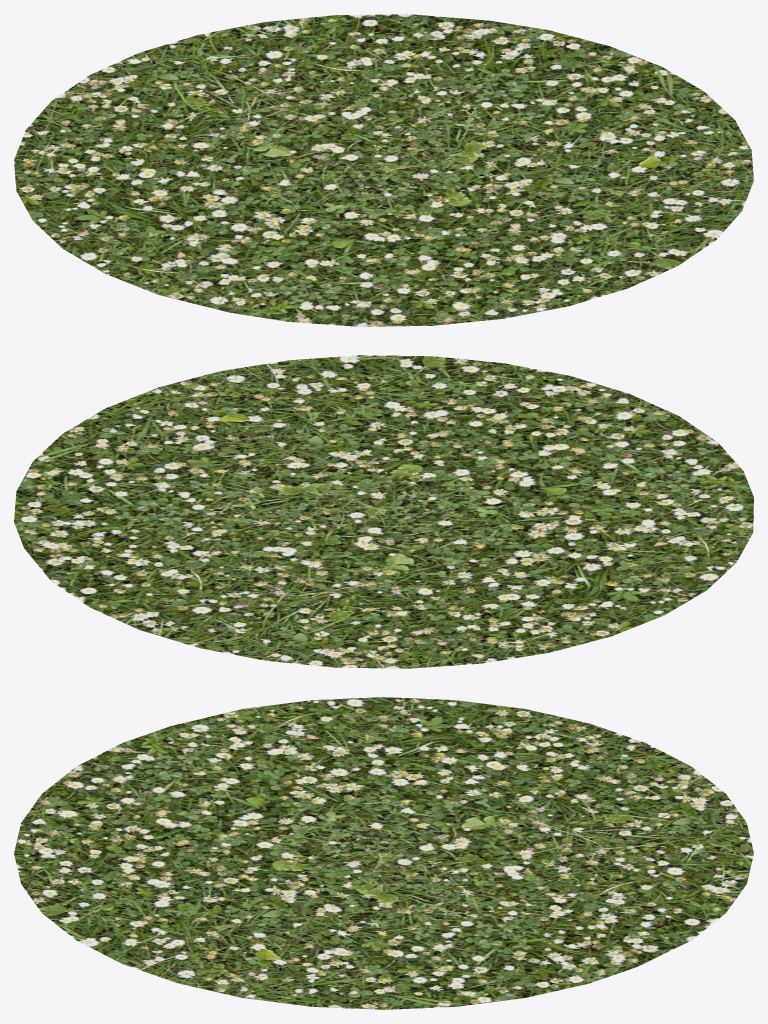
Rendered from EstatuaB2.fbx.
The picture shows the model from 3 angles, top to bottom: view 1: azimuth 30°, elevation 25°; view 2: azimuth 150°, elevation 25°; view 3: azimuth 270°, elevation 25°; orthographic projection.
Visible parts, largest first — view 1: EA_B1.001; view 2: EA_B1.001; view 3: EA_B1.001.
Part boxes in pixels (<box>): EA_B1.001: <box>14,14,753,326</box>; EA_B1.001: <box>14,355,753,668</box>; EA_B1.001: <box>14,697,753,1009</box>.
Bounding box in the file's own units: 1146 × 0 × 1146.
